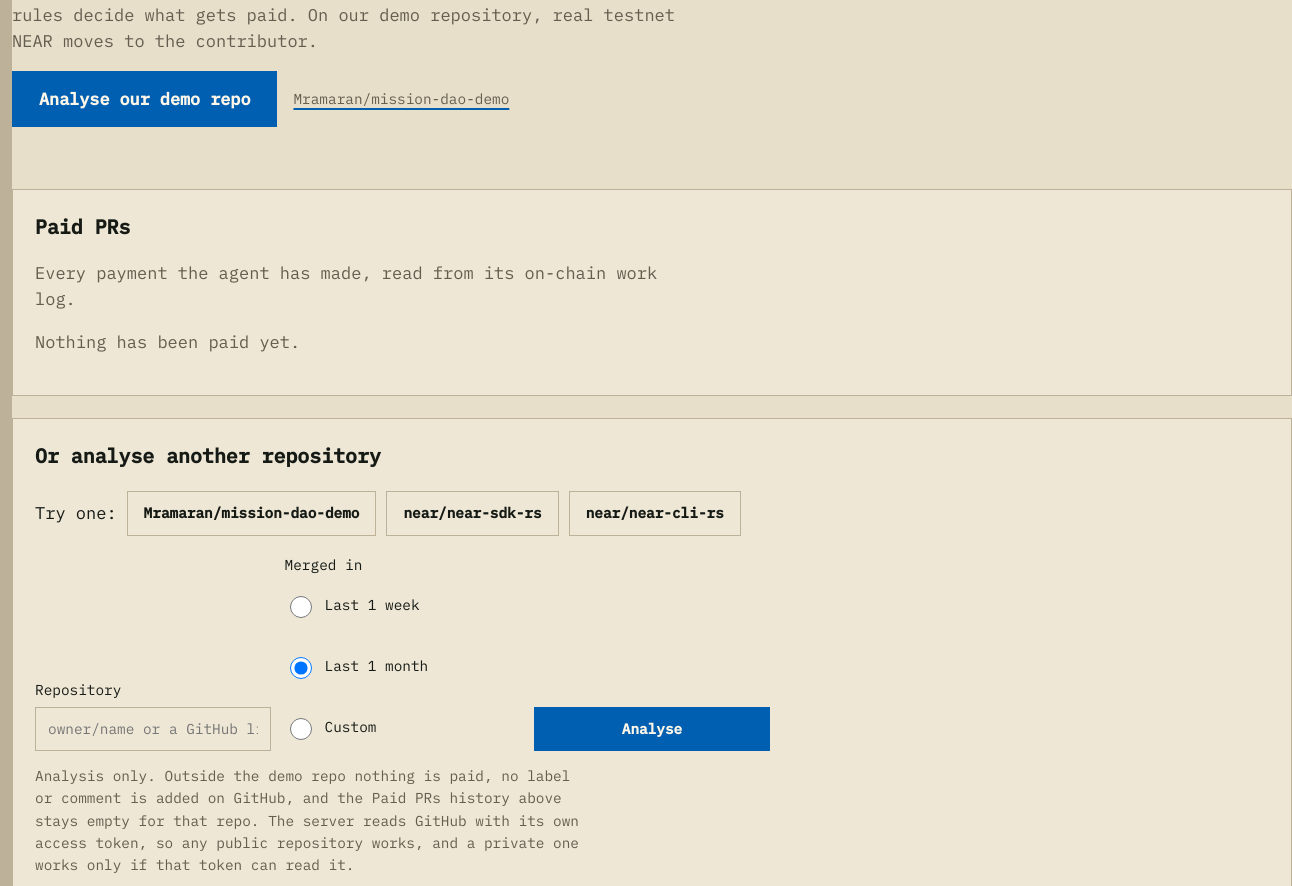
Test: AnalyseRepo › not found shows suggestions
The width and height of the screenshot is (1292, 886).
(page scrolled)
Type "o/missing" into the field labelled "Repository".
click(153, 729); type("o/missing")  # box [35,707,271,751]
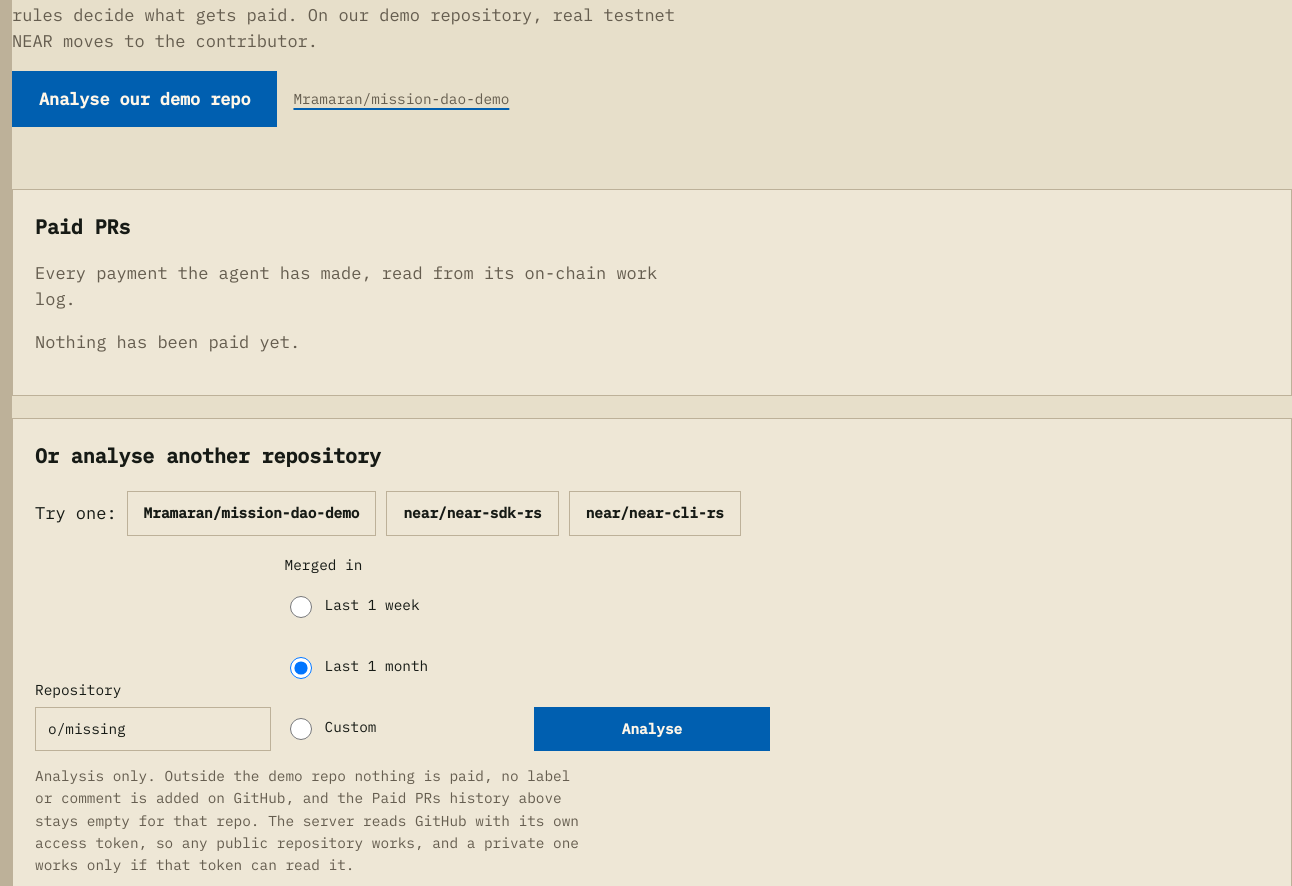
Click the button "Analyse".
click(652, 729)  # box [534,707,770,751]
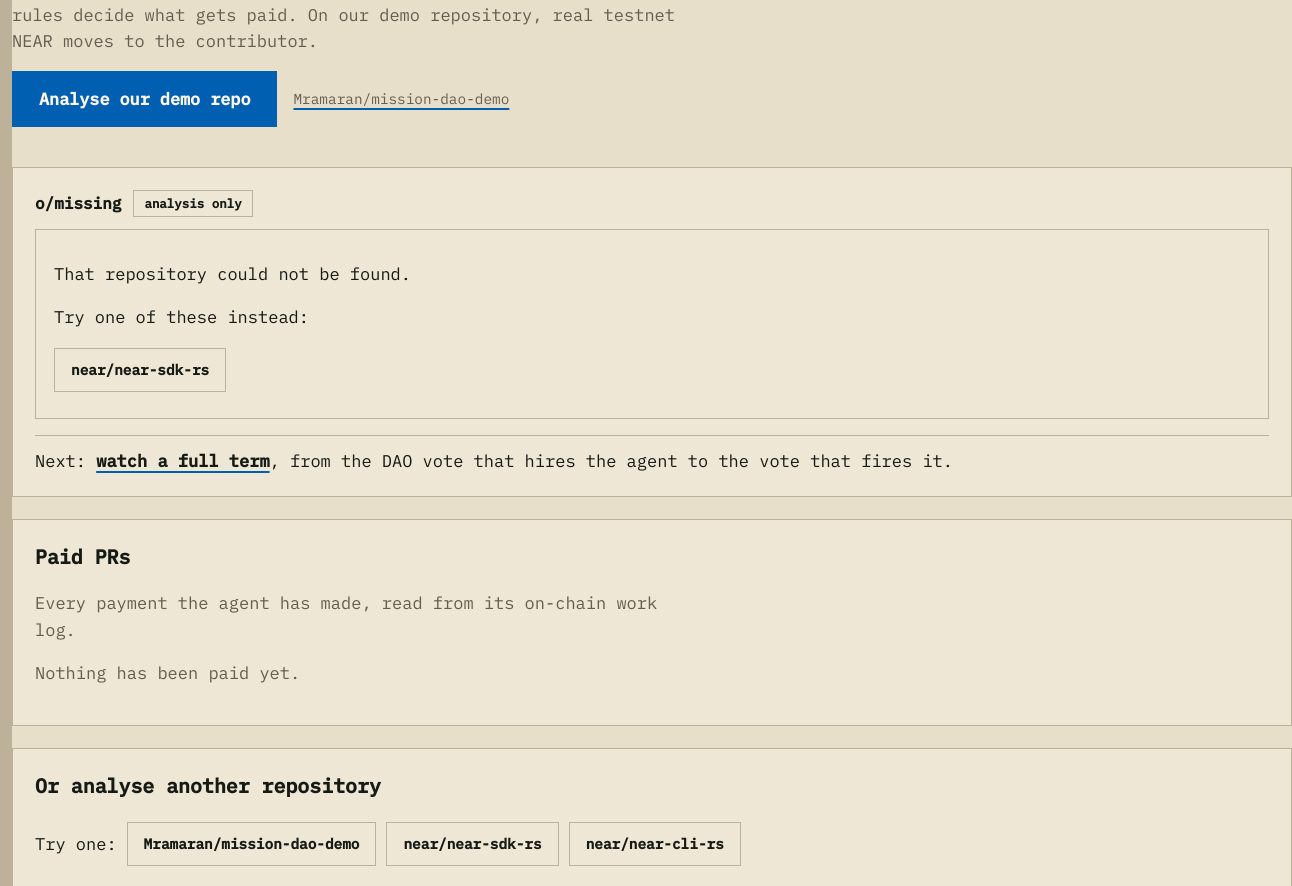
Expected: the button "near/near-sdk-rs" below "Try one of these instead:" is shown, [54,348,226,392]
Expected: the text "That repository could not be found." is shown, [54,263,411,285]
